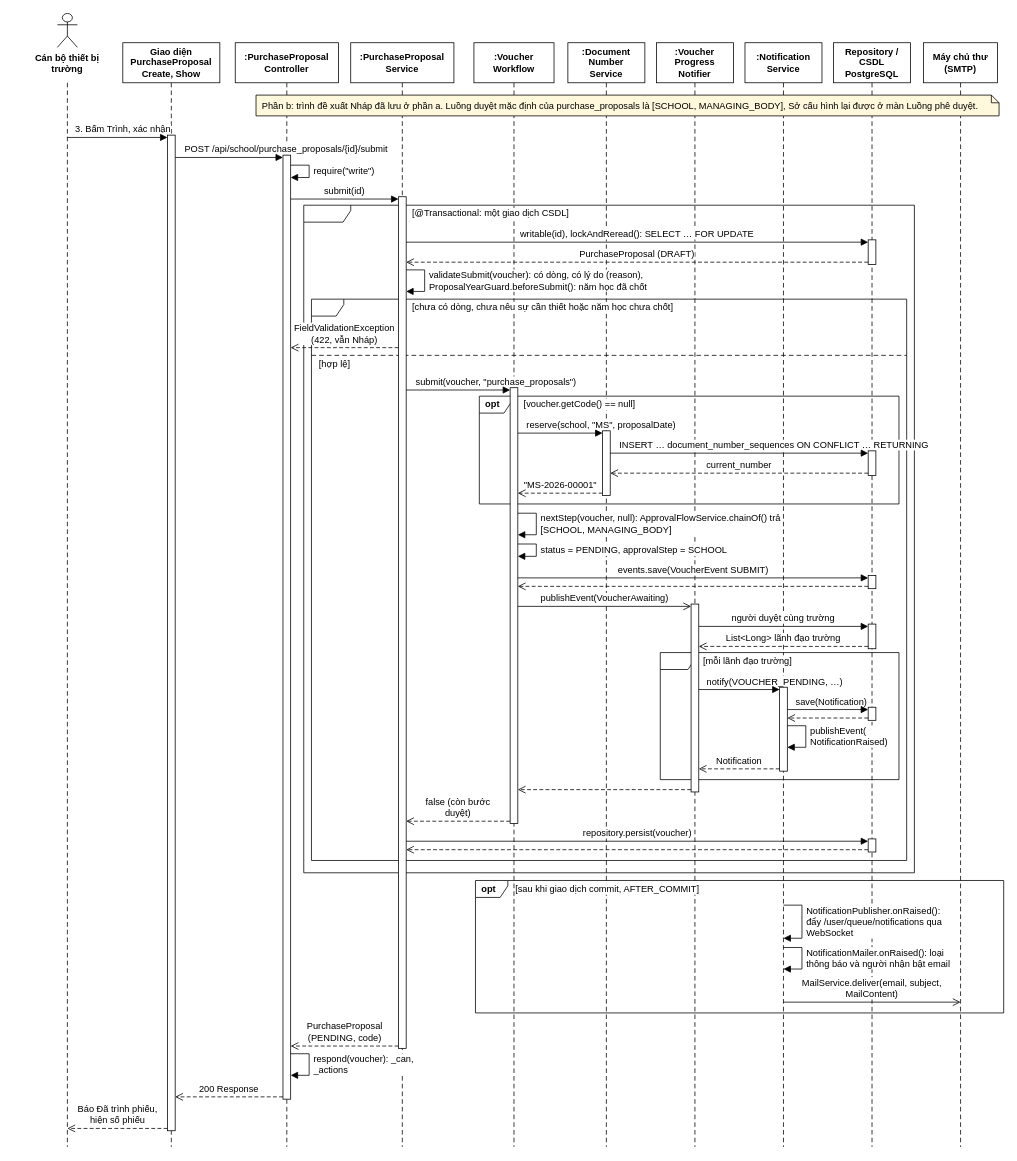
Image size: 1017x1161. Some labels were removed from this diagram. Each missing label, with the box of its shape:
alt: (311, 298, 907, 860)
critical: (303, 204, 914, 873)
loop: (660, 652, 899, 780)
